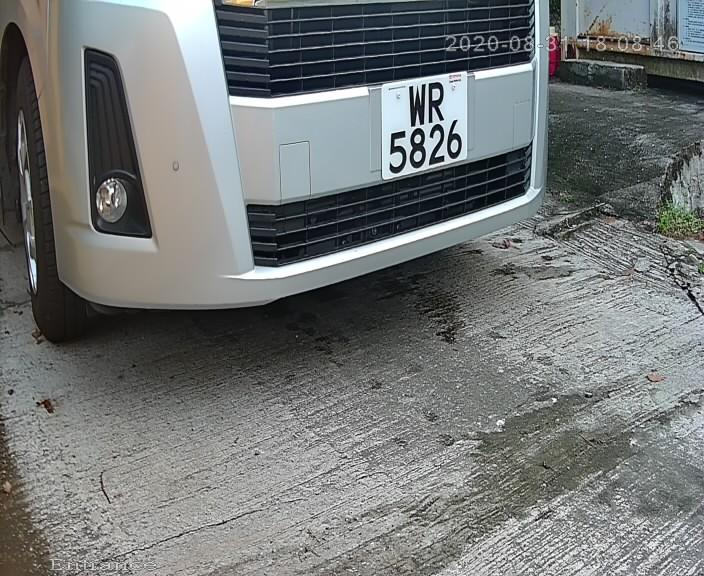License Plate: (365, 62, 481, 196)
